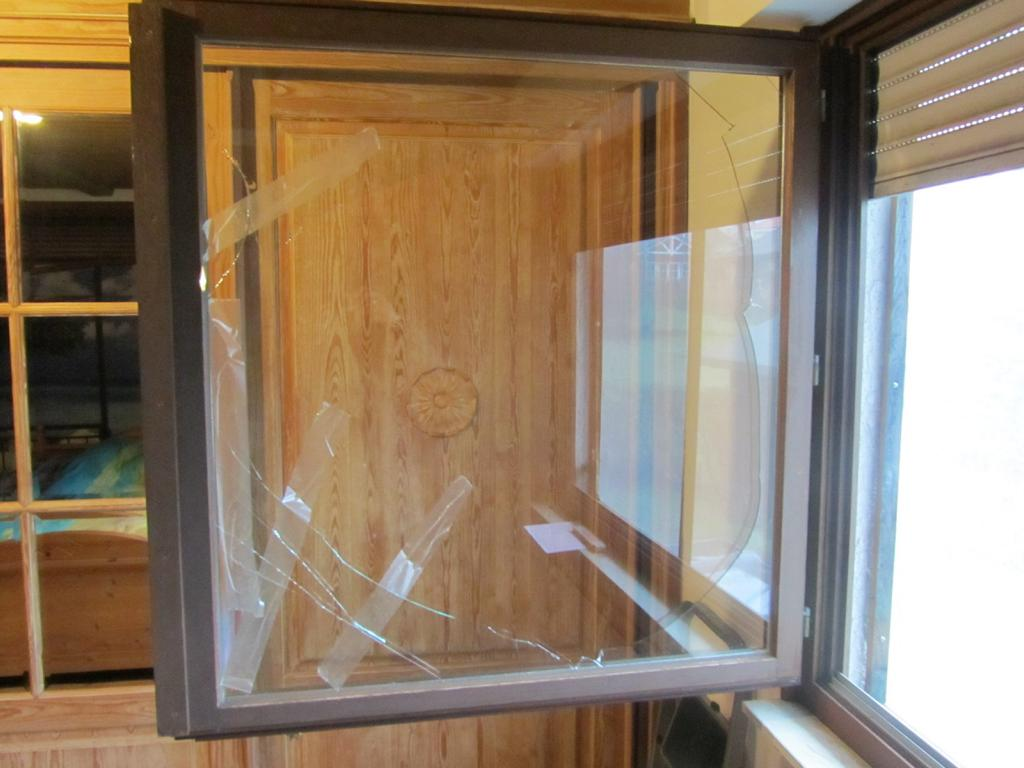windows: (153, 5, 803, 683)
